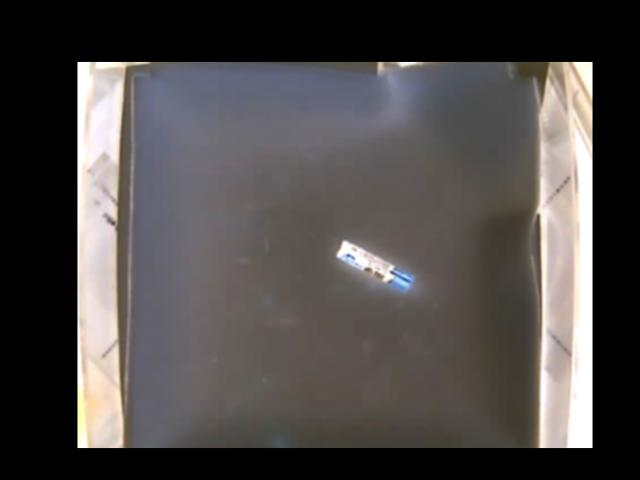Battery: (335, 239, 413, 293)
